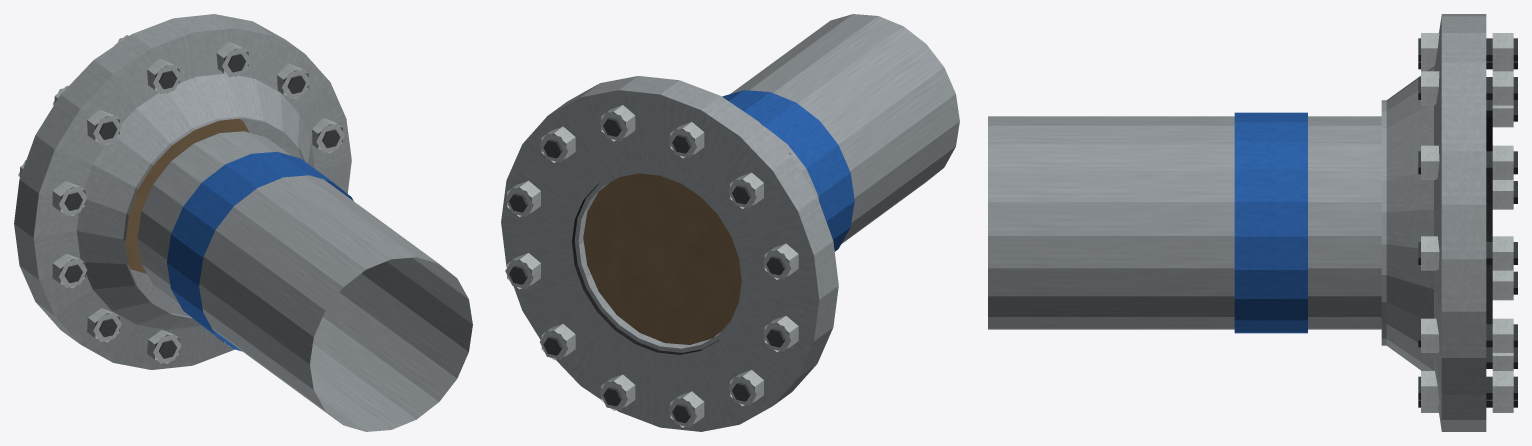
Rendered from body.obj.
3 renders of one model, left to right at view 1: azimuth 30°, elevation 25°; view 2: azimuth 150°, elevation 25°; view 3: azimuth 270°, elevation 25°, orthographic. The views are drawn at different scales.
Bounding box in the file's own units: 0.8 × 0.8 × 1.01.
